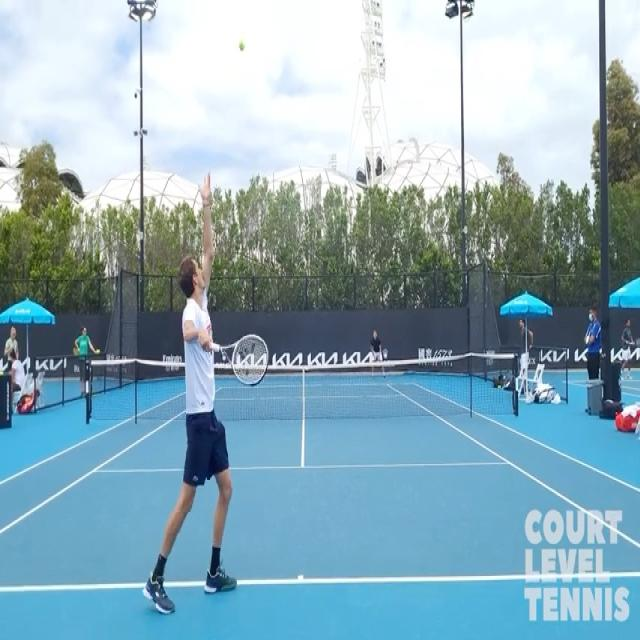serve_toss: (146, 170, 272, 605)
